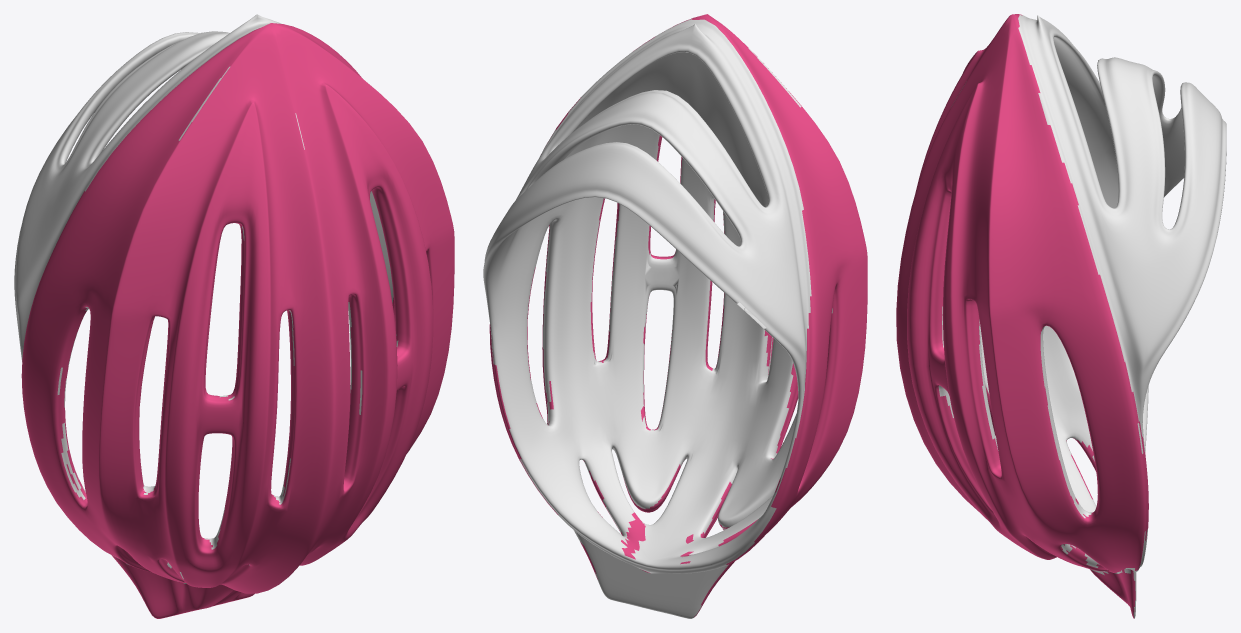
Rendered from helmet.fbx.
3 views of the same model, side by side, from view 1: azimuth 30°, elevation 25°; view 2: azimuth 150°, elevation 25°; view 3: azimuth 270°, elevation 25° (orthographic). The views are drawn at different scales.
Parts seen in each view (by area): view 1: helmet; view 2: helmet; view 3: helmet.
Part boxes in pixels (bbox=[...]): helmet: bbox=[14, 14, 454, 618]; helmet: bbox=[483, 14, 867, 618]; helmet: bbox=[896, 14, 1226, 618].
Size of the model in its own units: 1778 by 2916 by 1496.
